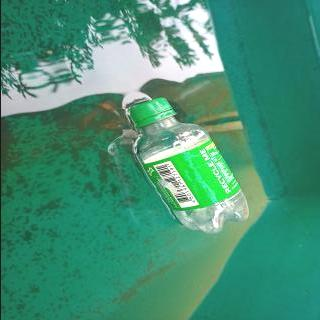bottle: (121, 94, 251, 235)
